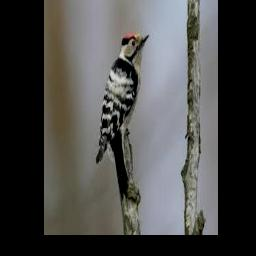Woodpecker: (96, 32, 149, 198)
